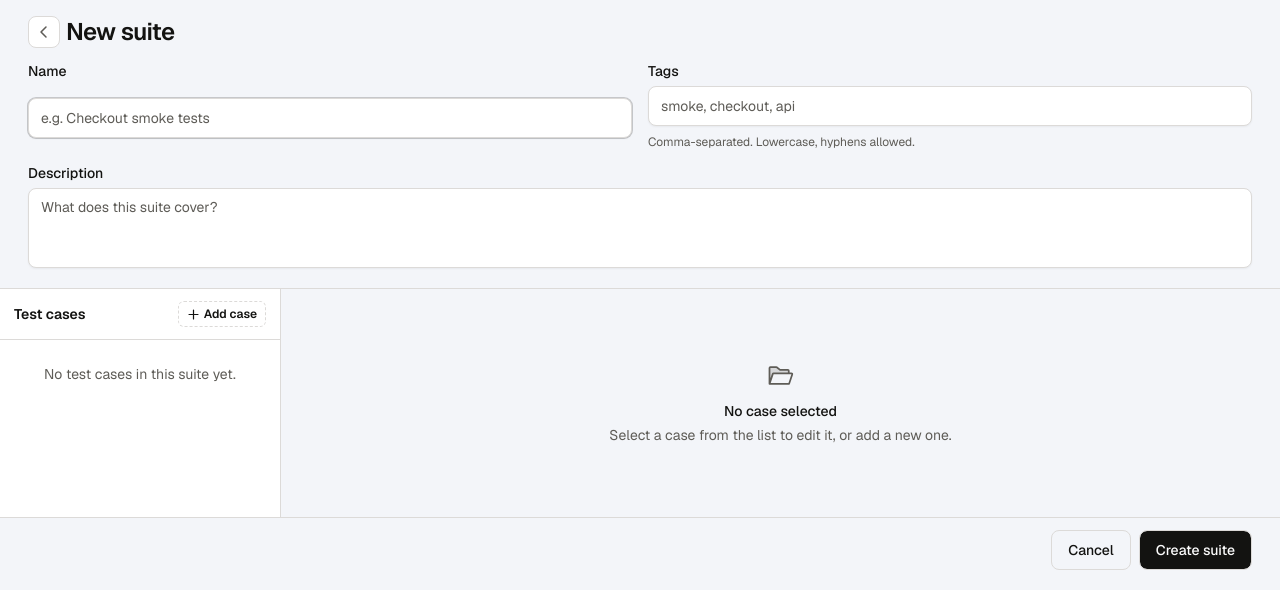
Test case: SuiteForm › requires a name on submit
This screenshot has width=1280, height=590.
Step 1. Click the button "Create suite" → coordinates (1195, 550), box [1139,530,1252,570]
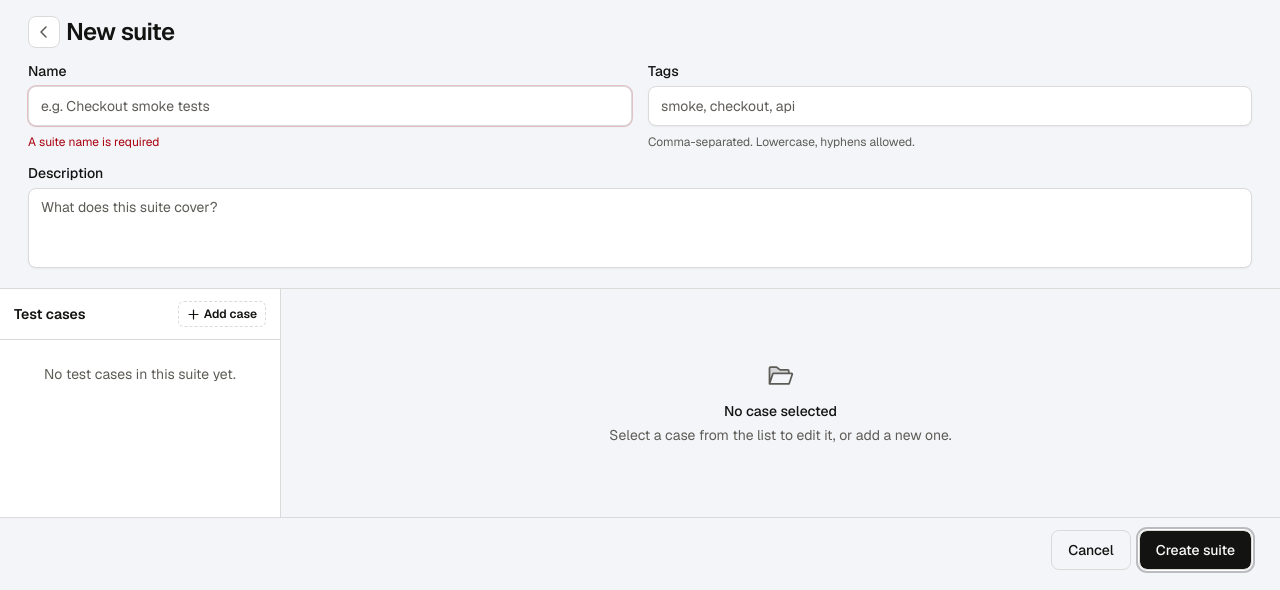
Expected: the text "A suite name is required" is shown, [28,134,160,150]
